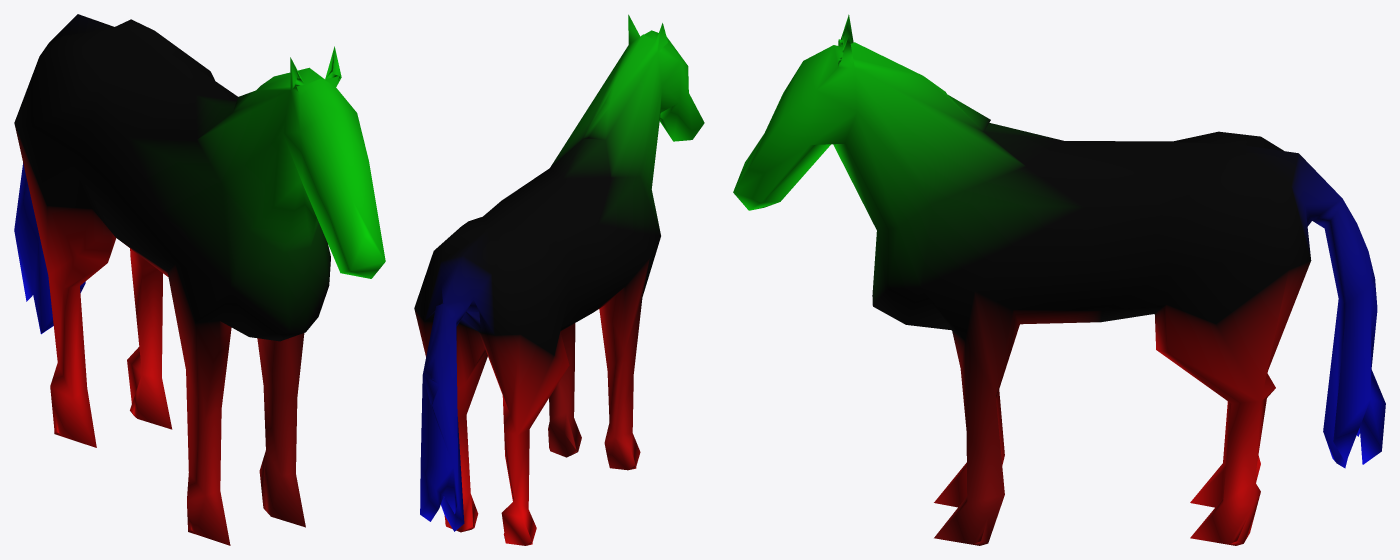
The model's file is horse_cob_lod2_bind.glb.
The picture shows the model from 3 angles, left to right: view 1: azimuth 30°, elevation 25°; view 2: azimuth 150°, elevation 25°; view 3: azimuth 270°, elevation 25°; orthographic projection. The views are drawn at different scales.
Visible parts, largest first — view 1: Horse_Body.001; view 2: Horse_Body.001; view 3: Horse_Body.001.
Boxes of the visible parts, box(x1,y1,x2,y2) form: Horse_Body.001: box(14, 14, 385, 545); Horse_Body.001: box(414, 14, 704, 545); Horse_Body.001: box(733, 14, 1385, 545).
Bounding box in the file's own units: 0.6244 × 1.97 × 2.34.
